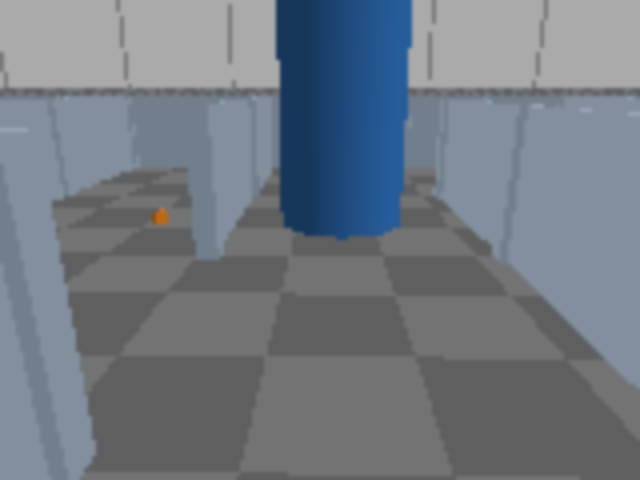puck: (151, 209, 169, 225)
